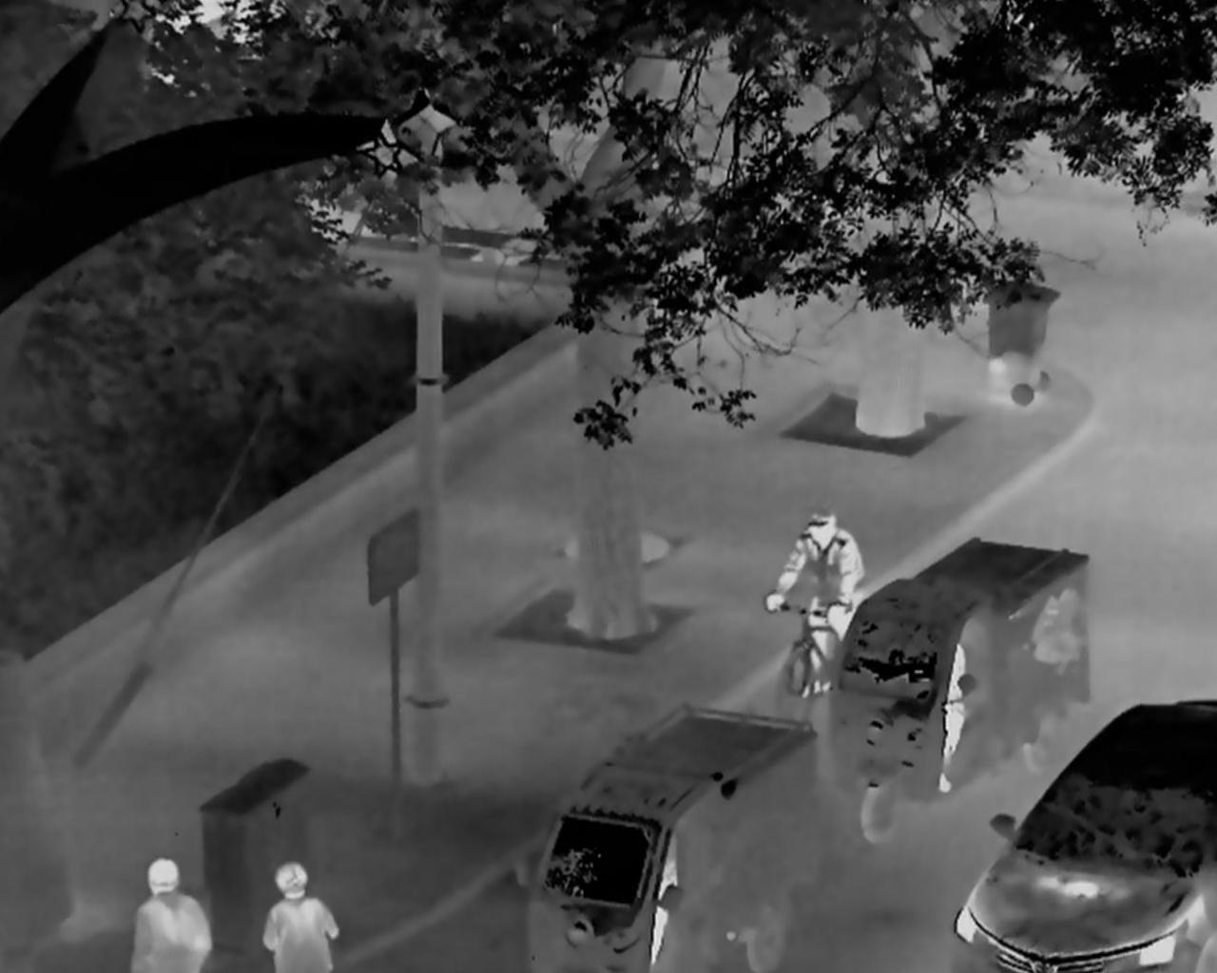person: (764, 508, 864, 697), (128, 857, 214, 971), (262, 859, 341, 973), (935, 642, 967, 794), (649, 831, 678, 965)
